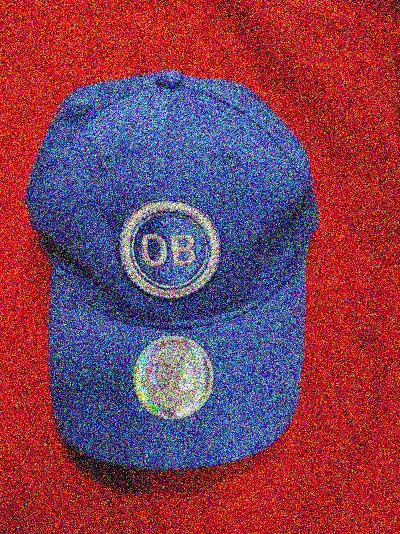Hat: (22, 66, 323, 467)
